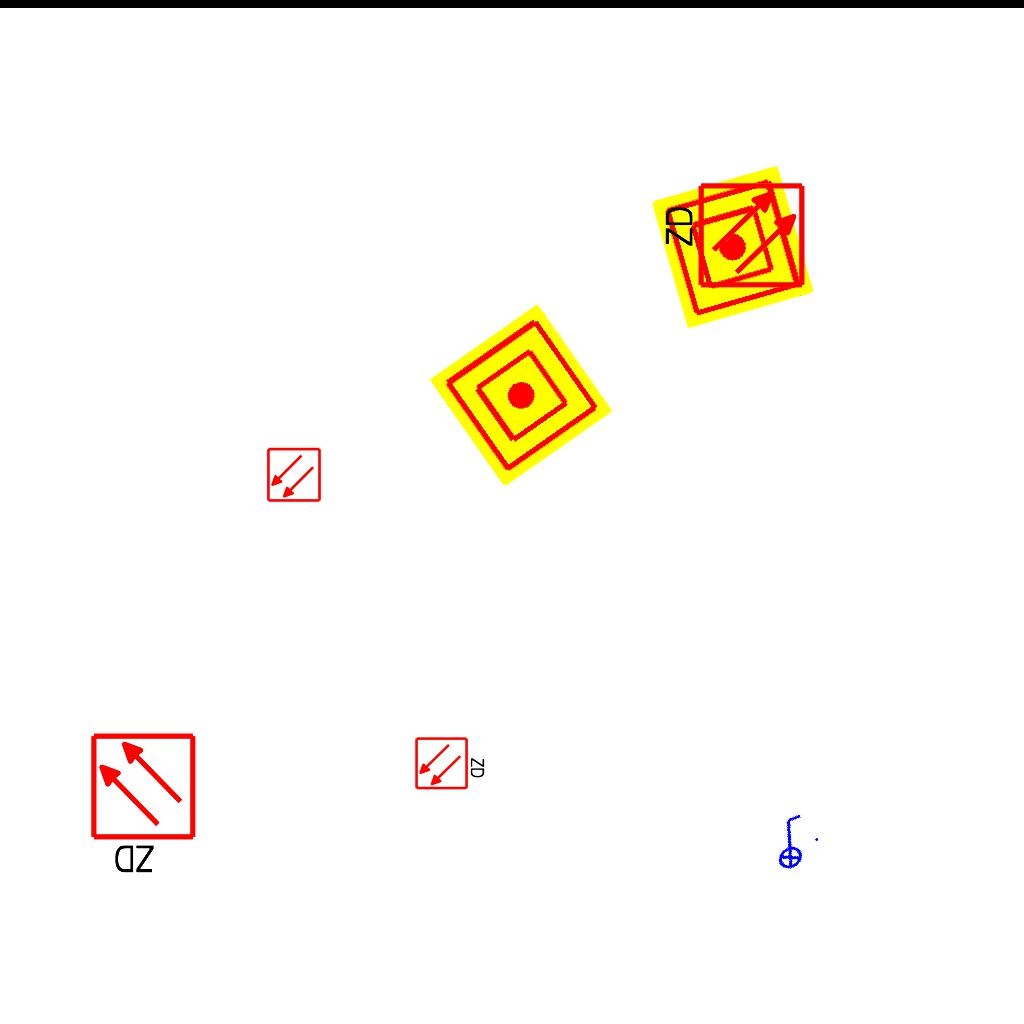Ausschalter_beleuchtet: (753, 806, 827, 878)
NAM-Nichtautomatischer_Melder: (429, 303, 613, 487), (651, 165, 815, 329)
RMO_Rauchmelder_optischer: (266, 447, 322, 503)
ZD_Melder_in_Zwischendecke_mit_Revisionsoeffnung_mind_40_x_40_cm: (88, 731, 202, 880), (658, 180, 807, 294), (414, 734, 488, 791)
